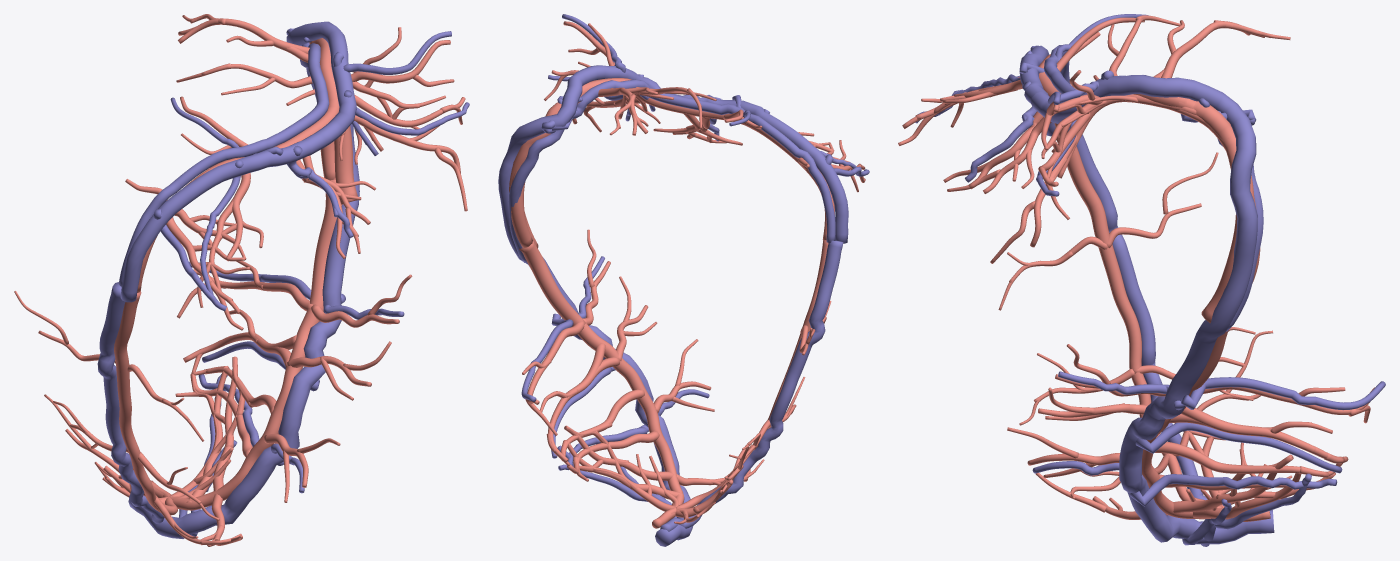
File: vessels_24.glb
The picture shows the model from 3 angles, left to right: view 1: azimuth 30°, elevation 25°; view 2: azimuth 150°, elevation 25°; view 3: azimuth 270°, elevation 25°; orthographic projection. The views are drawn at different scales.
Visible parts, largest first — view 1: Renderer Node; view 2: Renderer Node; view 3: Renderer Node.
Part boxes in pixels (left/top/right/bottom): Renderer Node: left=14, top=14, right=469, bottom=546; Renderer Node: left=498, top=14, right=869, bottom=546; Renderer Node: left=898, top=14, right=1385, bottom=546.
Size of the model in its own units: 93.83 by 120 by 94.15.
